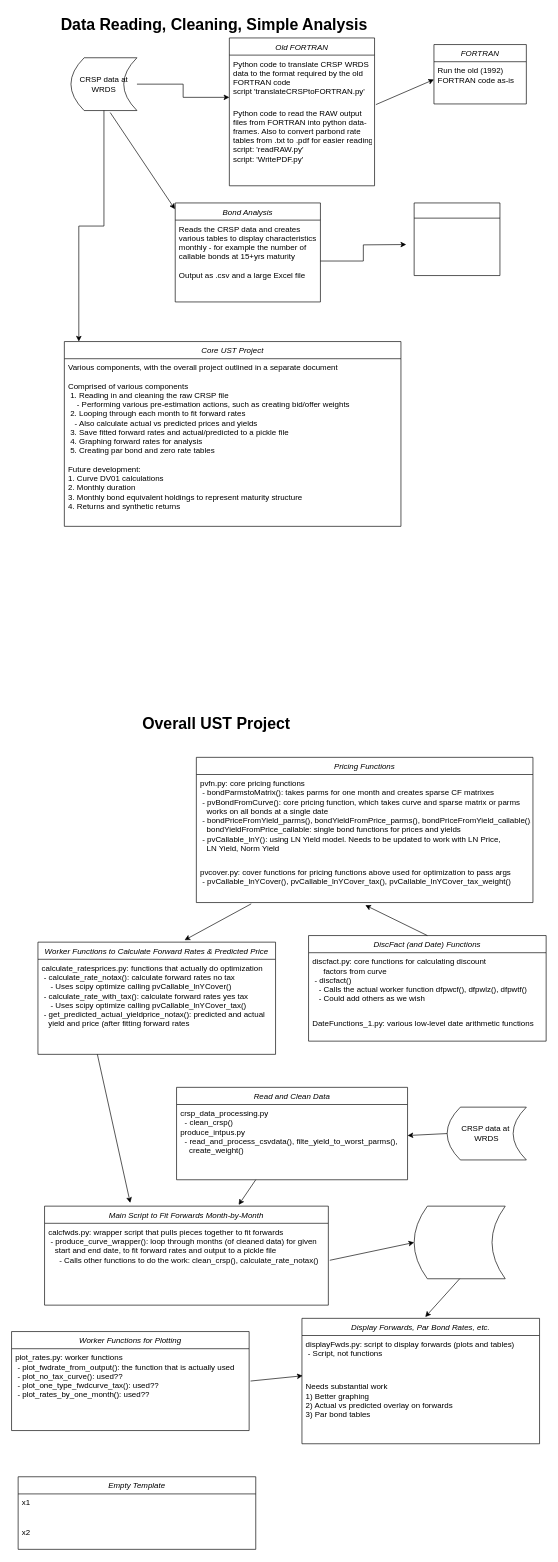
Image size: 558x1562. Some labels were removed from this diagram. The centre of each missing label's shape, as x and y in pixels:
Excel Output: pixel 456 239
Fwd Rates and Actual / Predicted Prices and Yields: pixel 459 1242
